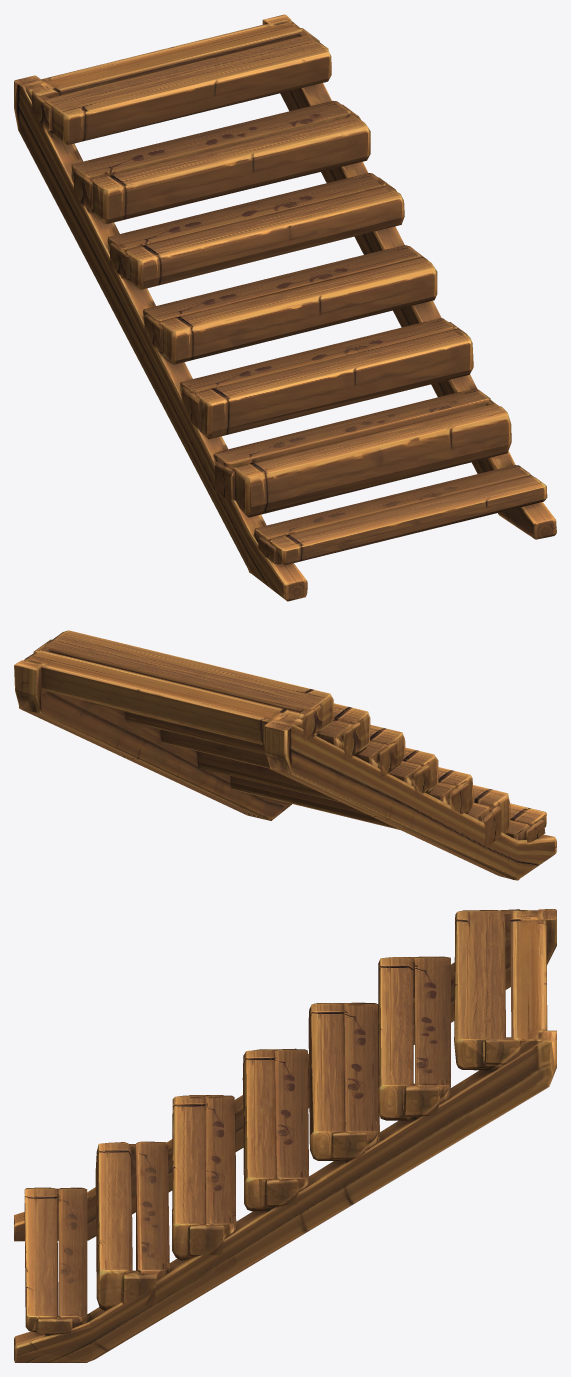
The model's file is stairs.glb.
The picture shows the model from 3 angles, top to bottom: view 1: azimuth 30°, elevation 25°; view 2: azimuth 150°, elevation 25°; view 3: azimuth 270°, elevation 25°; orthographic projection.
Visible parts, largest first — view 1: stairs; view 2: stairs; view 3: stairs.
Part boxes in pixels (bbox=[...]): stairs: bbox=[14, 14, 556, 601]; stairs: bbox=[14, 630, 556, 880]; stairs: bbox=[14, 909, 556, 1362].
Bounding box in the file's own units: 0.5781 × 0.6562 × 1.
Materials: 1 (1 with a texture image).
